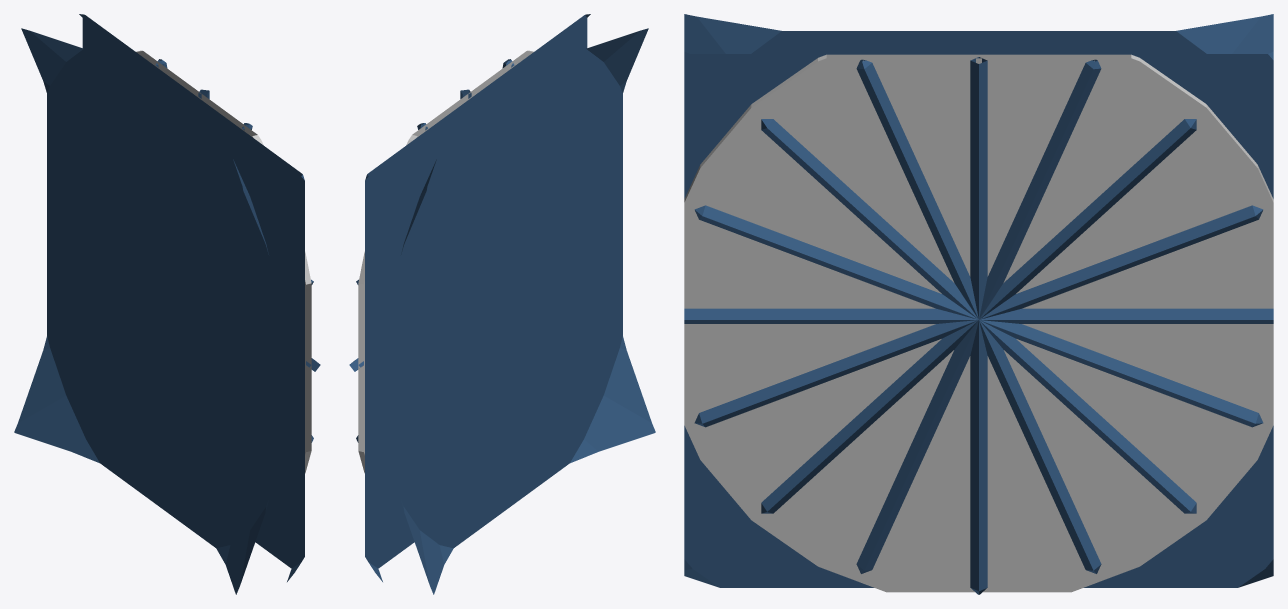
Rendered from cell_34.obj.
The picture shows the model from 3 angles, left to right: view 1: azimuth 30°, elevation 25°; view 2: azimuth 150°, elevation 25°; view 3: azimuth 270°, elevation 25°; orthographic projection. The views are drawn at different scales.
Bounding box in the file's own units: 0.2191 × 1 × 1.
